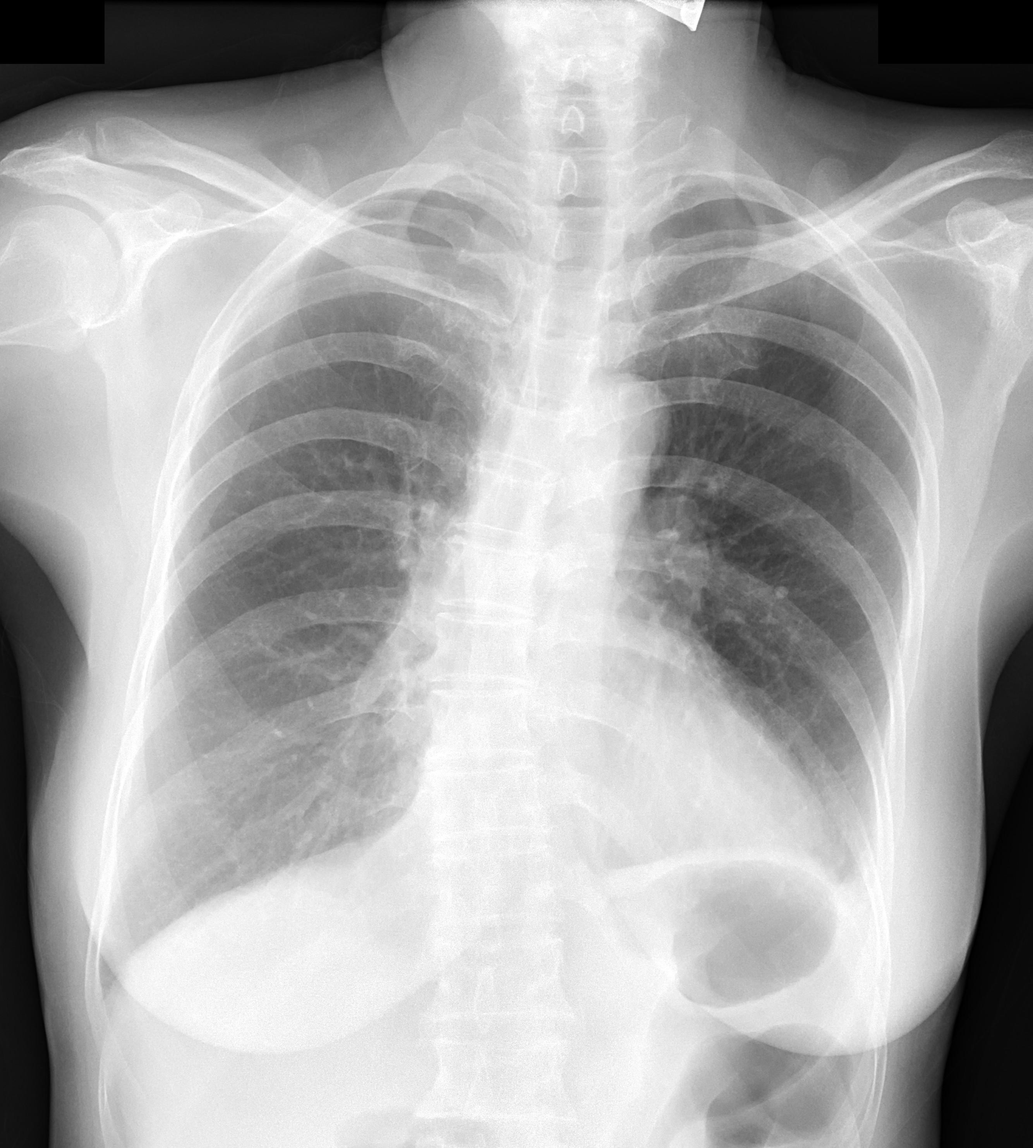Aortic enlargement: (557, 364, 677, 487)
Cardiomegaly: (392, 732, 845, 905)
Pleural thickening: (800, 826, 888, 976)
